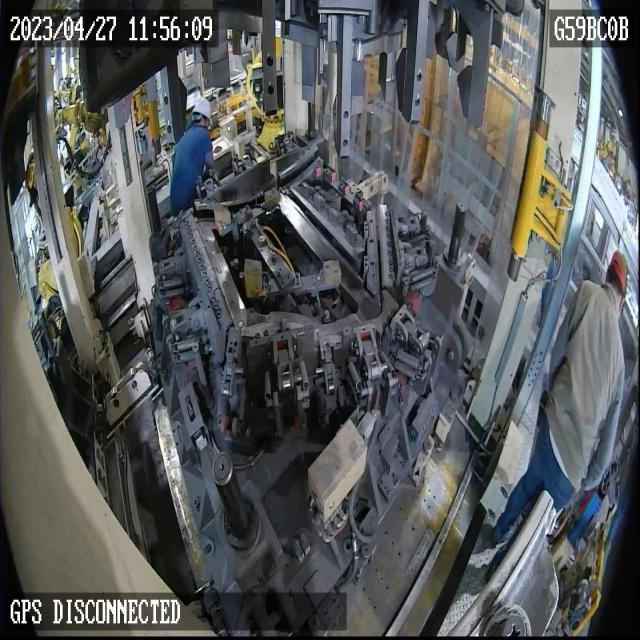Person: (490, 250, 628, 548), (169, 96, 215, 218)
